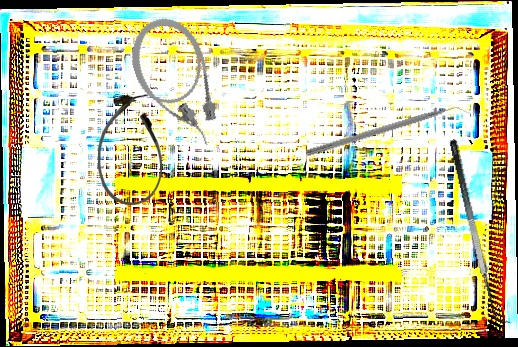Cannula: (121, 8, 230, 160), (98, 94, 162, 206)
Chopper: (304, 100, 472, 166)
Spatula Surgical: (448, 135, 512, 329)
